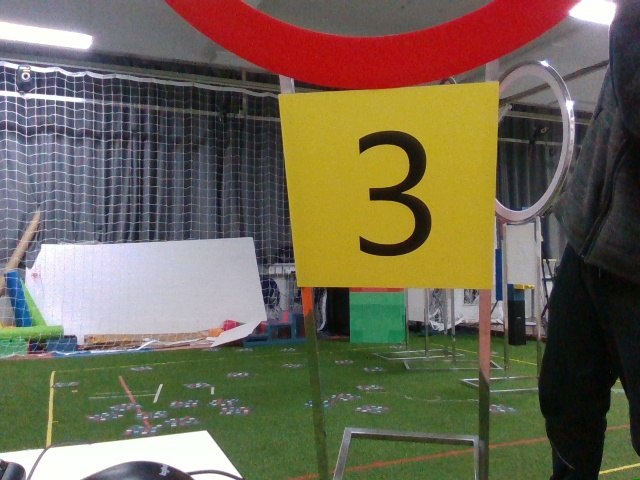target: (293, 99, 490, 288)
